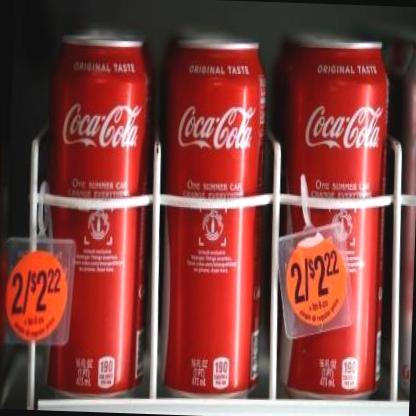alumunium_can: (258, 30, 396, 402), (146, 33, 278, 404), (35, 31, 160, 404)
